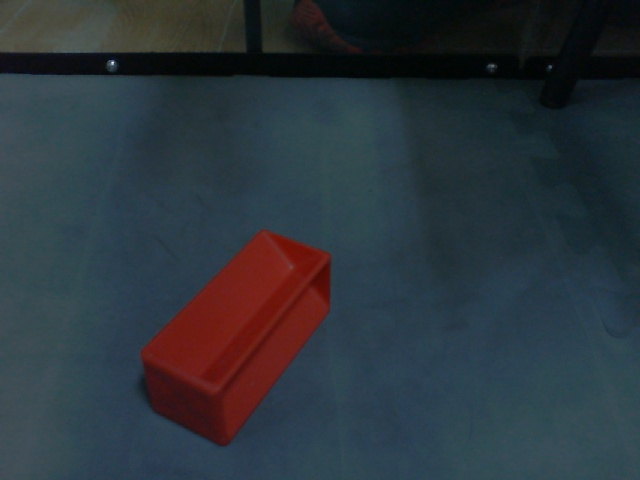RedSample: (137, 225, 335, 449)
